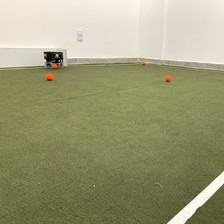ball: (162, 73, 172, 83), (44, 71, 53, 81), (140, 59, 147, 67), (49, 63, 56, 69)
goal: (1, 44, 70, 69)
robot: (42, 50, 64, 71)
